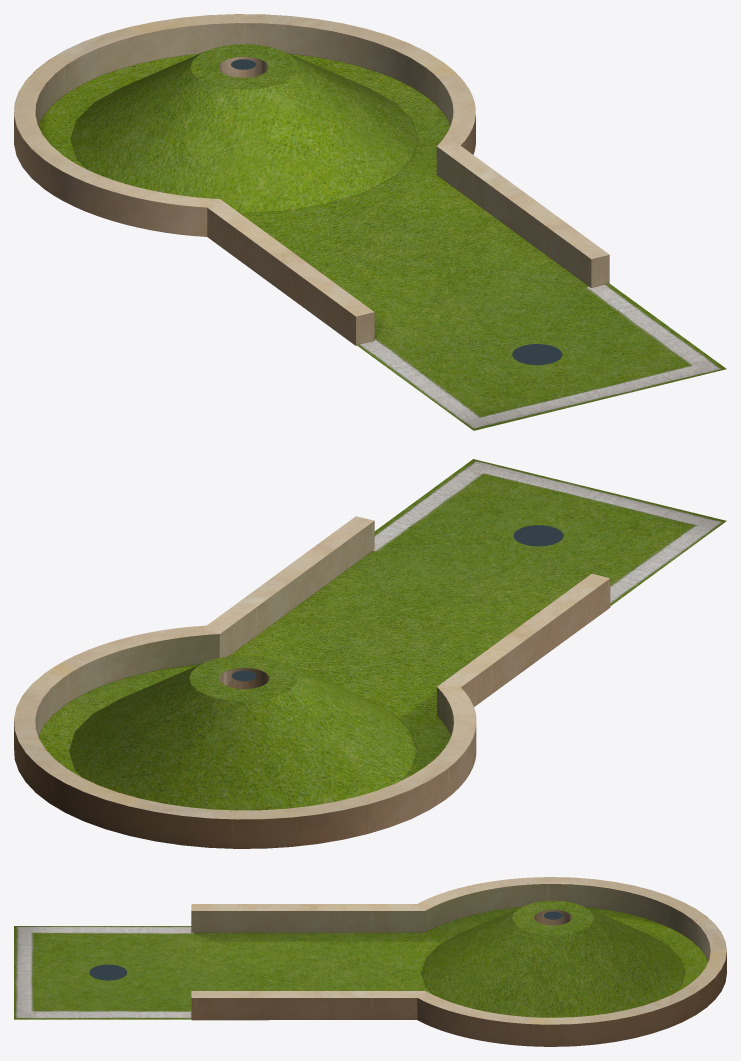
File: segundo-campo.glb
3 views of the same model, one above another, from view 1: azimuth 30°, elevation 25°; view 2: azimuth 150°, elevation 25°; view 3: azimuth 270°, elevation 25° (orthographic). The views are drawn at different scales.
Parts seen in each view (by area): view 1: circuito-suelo, paredes, punto-pelota; view 2: circuito-suelo, paredes, punto-pelota; view 3: circuito-suelo, paredes, punto-pelota.
Boxes of the visible parts, bbox=[...] form: circuito-suelo: bbox=[38, 44, 726, 430]; paredes: bbox=[14, 14, 609, 345]; punto-pelota: bbox=[512, 344, 562, 365]; circuito-suelo: bbox=[38, 459, 726, 810]; paredes: bbox=[14, 516, 610, 848]; punto-pelota: bbox=[513, 525, 563, 546]; circuito-suelo: bbox=[14, 900, 708, 1019]; paredes: bbox=[191, 877, 726, 1046]; punto-pelota: bbox=[89, 964, 127, 980].
Size of the model in its own units: 2.2 by 0.4009 by 4.5.
3 materials, 2 textured.
